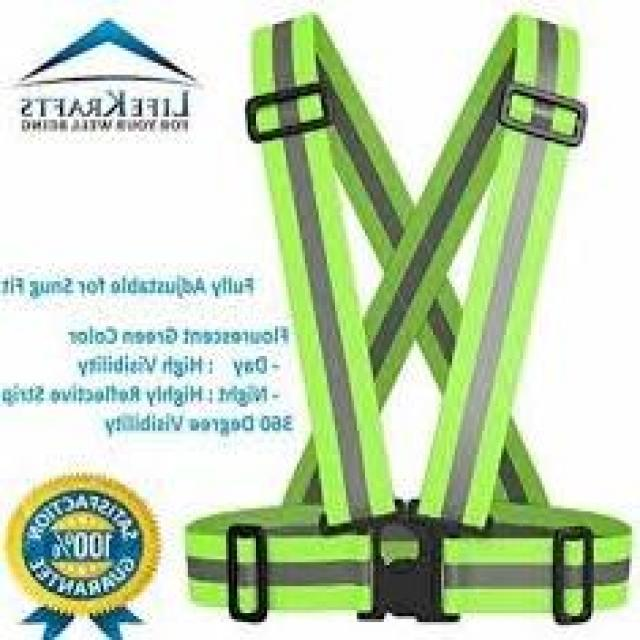Reflective-Jacket: (21, 21, 634, 631)
